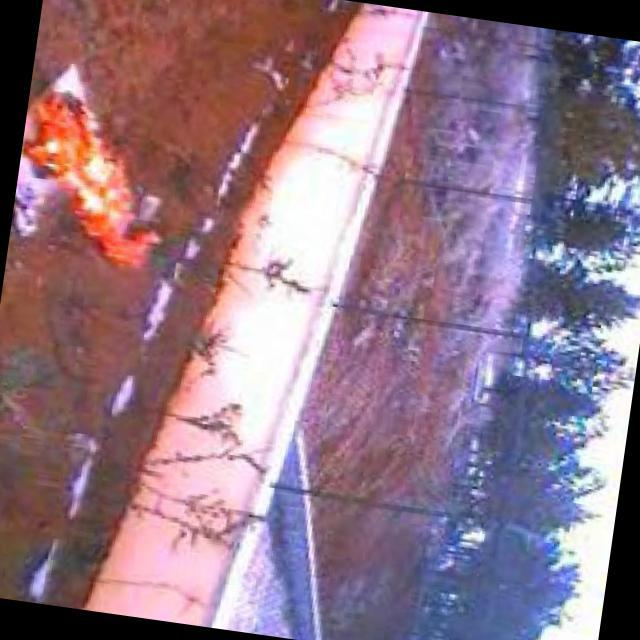Fire: (7, 73, 186, 281)
